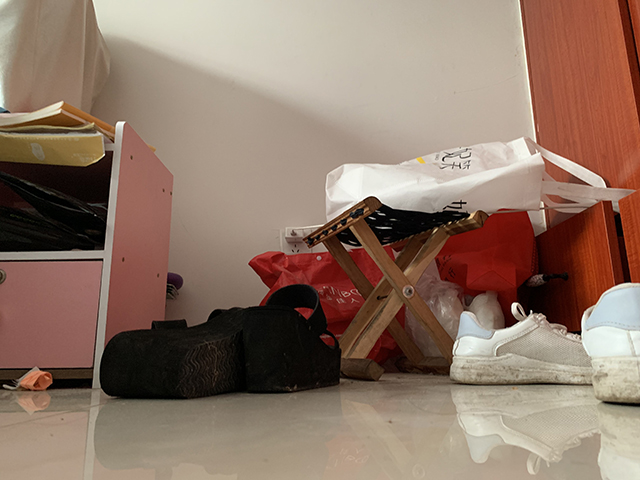cabinet: (1, 118, 176, 392)
stool: (300, 195, 490, 382)
